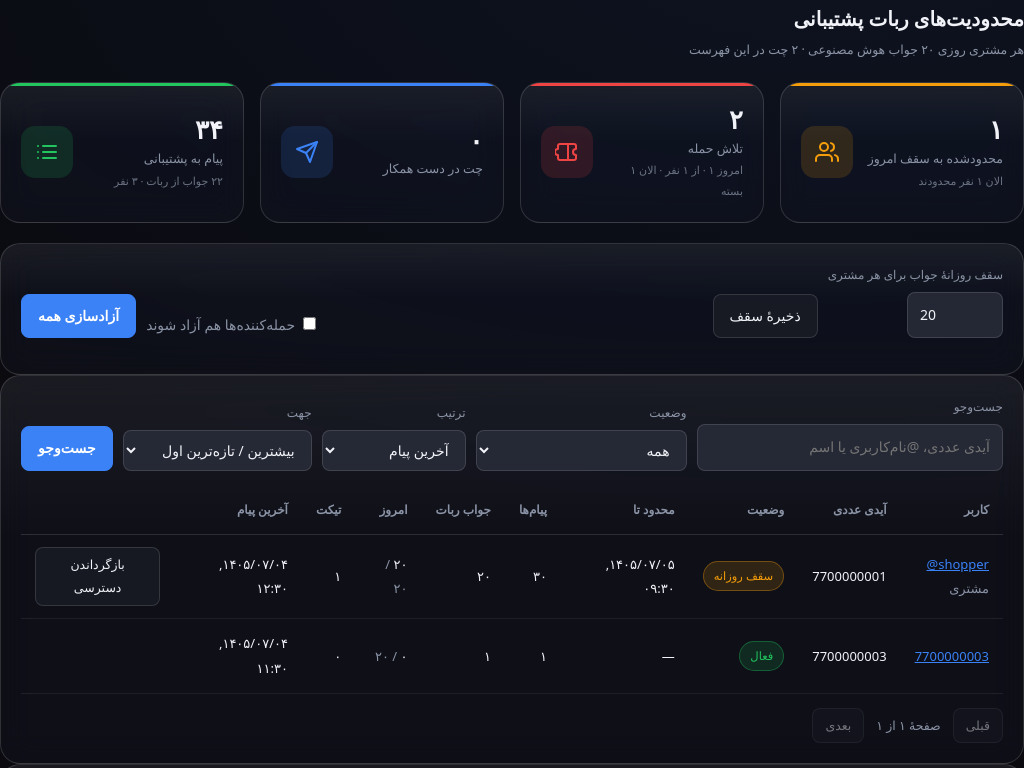
Test: the support bot limits page › gives one chat back, and «آزادسازی همه» asks first and sends the attackers choice
This screenshot has width=1024, height=768.
Click the button "بازگرداندن دسترسی" at {"x": 98, "y": 576}, box [35,547,160,606]
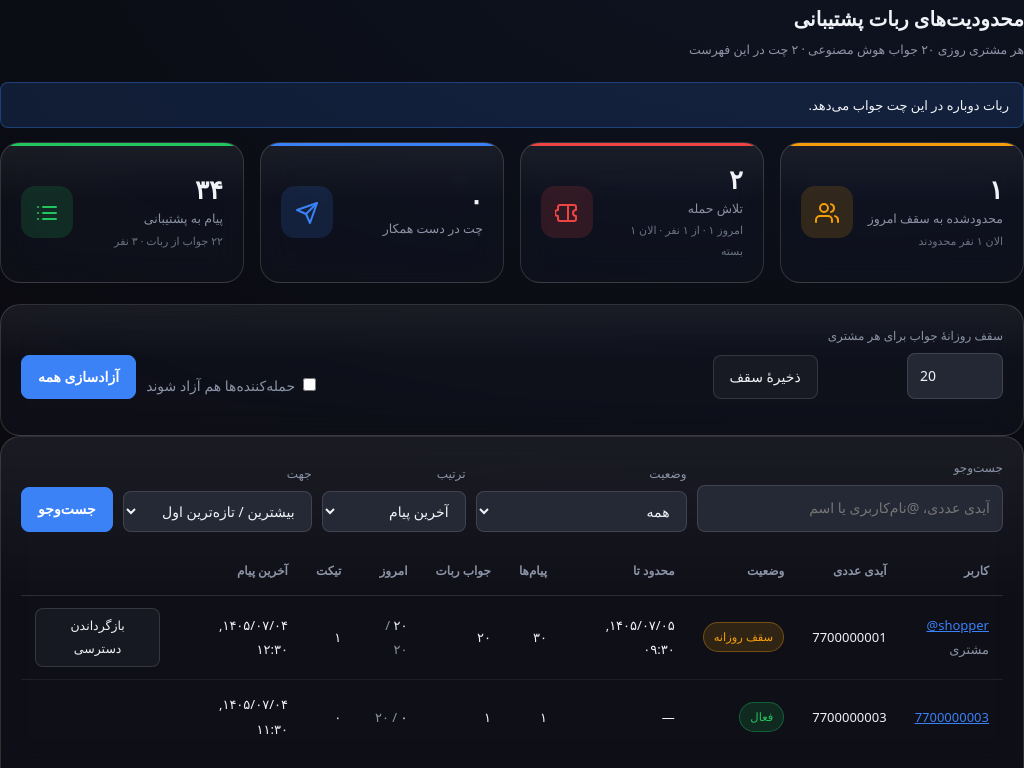
Expected: the text "ربات دوباره در این چت جواب می‌دهد." is shown, [0,82,1023,128]
Click the checkbox labelled "حمله‌کننده‌ها هم آزاد شوند" at {"x": 309, "y": 384}, box [303,378,316,391]
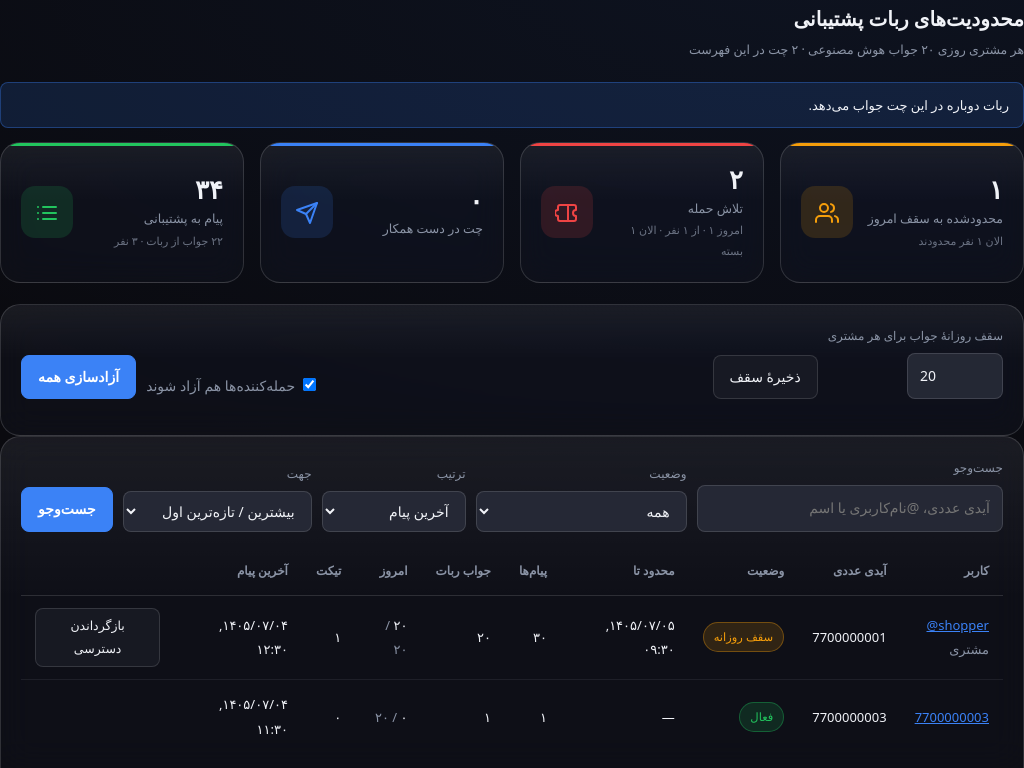
Click the button "آزادسازی همه" at {"x": 79, "y": 377}, box [21,355,136,399]
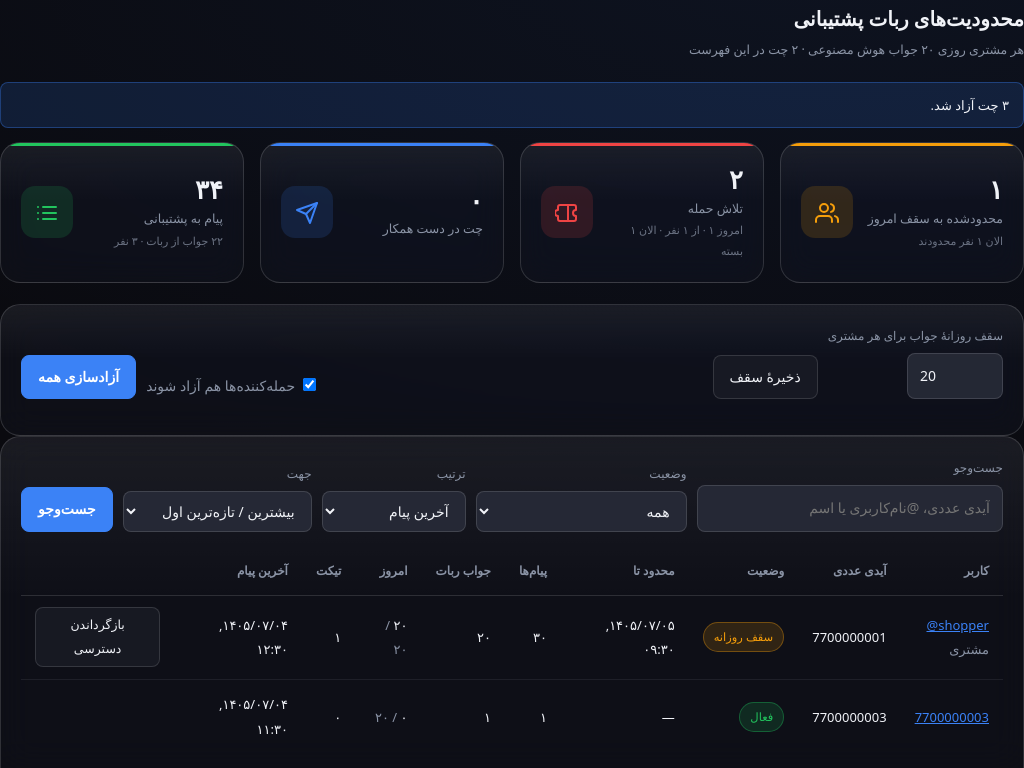
Expected: the text "۳ چت آزاد شد." is shown, [0,82,1023,128]
